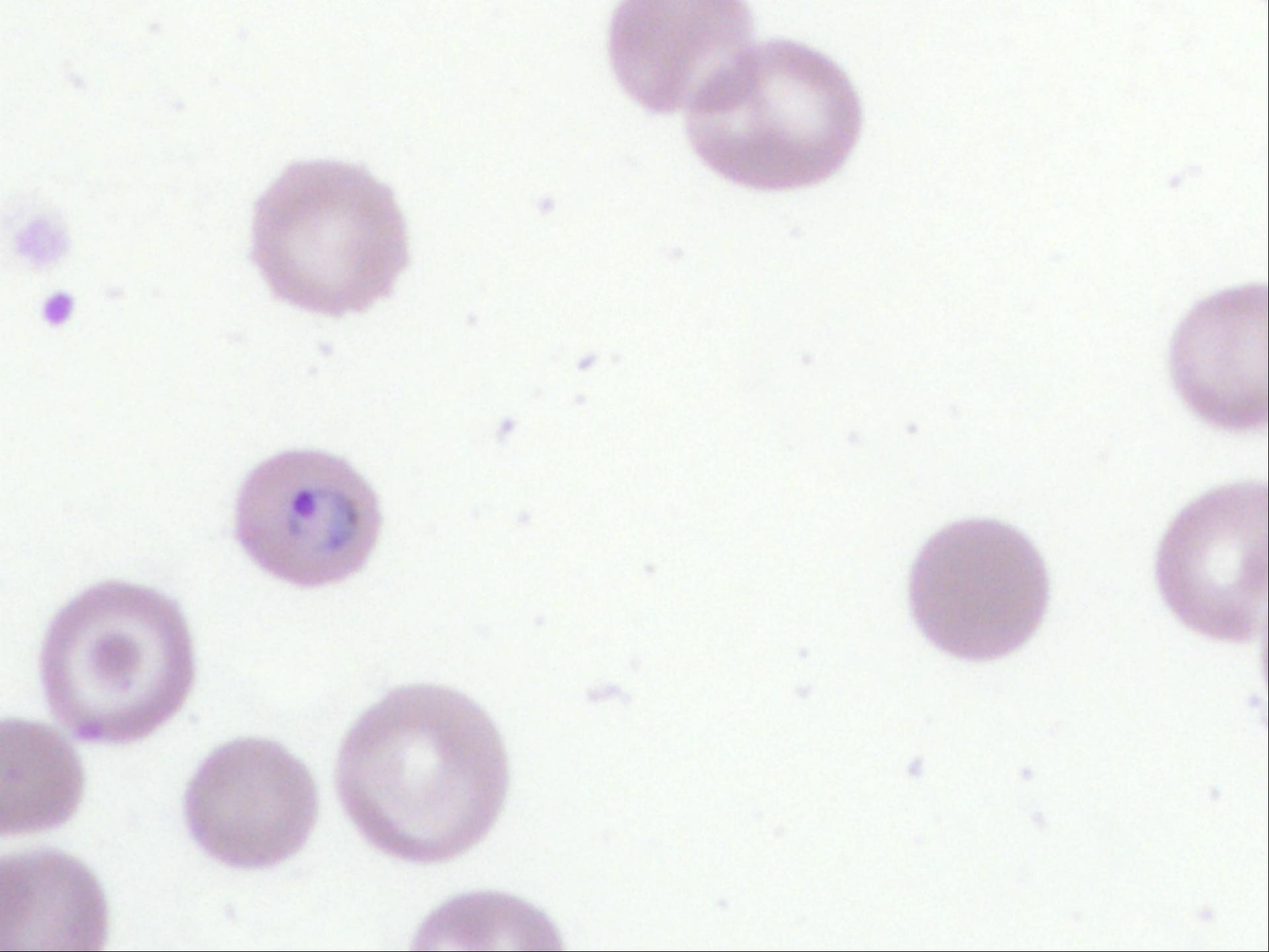Infected: (229, 446, 386, 585)
Uninfected: (333, 686, 514, 859), (35, 580, 197, 751), (687, 36, 858, 190), (247, 161, 408, 317), (912, 516, 1047, 660), (1157, 476, 1269, 642), (181, 734, 316, 865), (608, 1, 761, 112), (1172, 278, 1269, 423)
